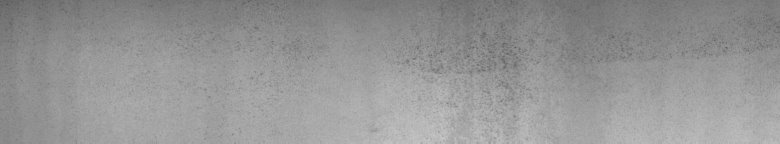ib: (402, 32, 546, 106)
